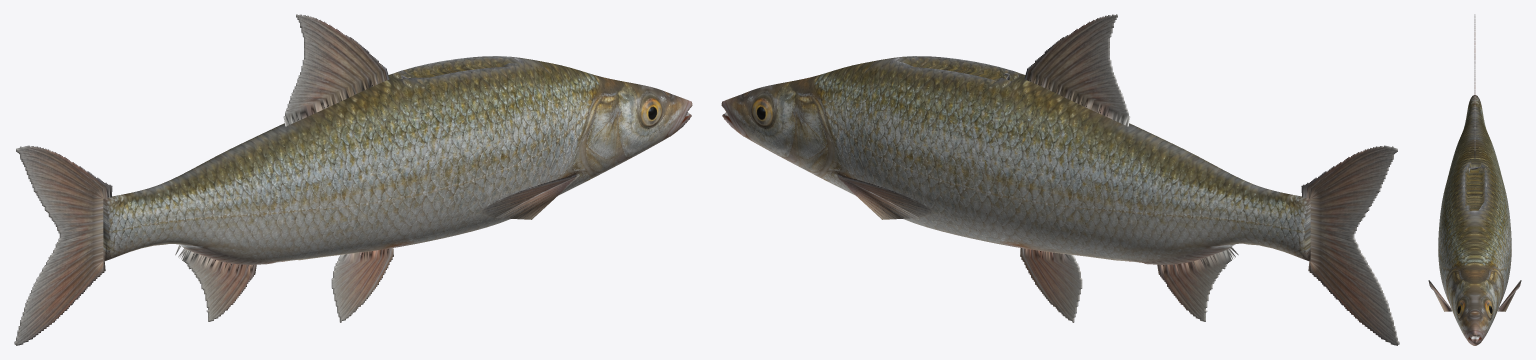
File: dace.glb
3 renders of one model, left to right at view 1: azimuth 30°, elevation 25°; view 2: azimuth 150°, elevation 25°; view 3: azimuth 270°, elevation 25°, orthographic. The views are drawn at different scales.
Parts seen in each view (by area): view 1: dace_realistic.003; view 2: dace_realistic.003; view 3: dace_realistic.003.
Part boxes in pixels (<box>): dace_realistic.003: <box>14,14,692,345</box>; dace_realistic.003: <box>721,14,1399,345</box>; dace_realistic.003: <box>1428,14,1521,345</box>.
Size of the model in its own units: 1 by 0.4503 by 0.1671.
3 materials, 3 textured.
